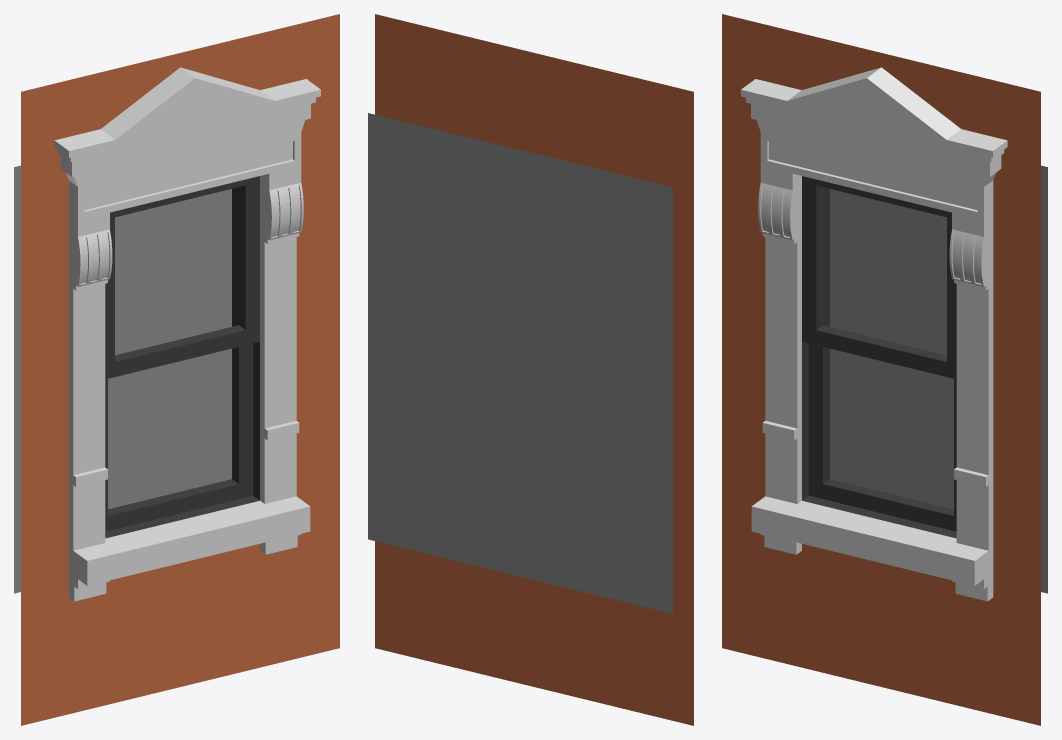
The model's file is object_B2_Top_floor_window.glb.
The picture shows the model from 3 angles, left to right: view 1: azimuth 30°, elevation 25°; view 2: azimuth 150°, elevation 25°; view 3: azimuth 330°, elevation 25°; orthographic projection.
Parts seen in each view (by area): view 1: B2 Top floor window; view 2: B2 Top floor window; view 3: B2 Top floor window.
Boxes of the visible parts, bbox=[...] form: B2 Top floor window: bbox=[14, 14, 339, 725]; B2 Top floor window: bbox=[368, 14, 693, 725]; B2 Top floor window: bbox=[722, 14, 1047, 725].
Size of the model in its own units: 2 by 3.8 by 0.35.
